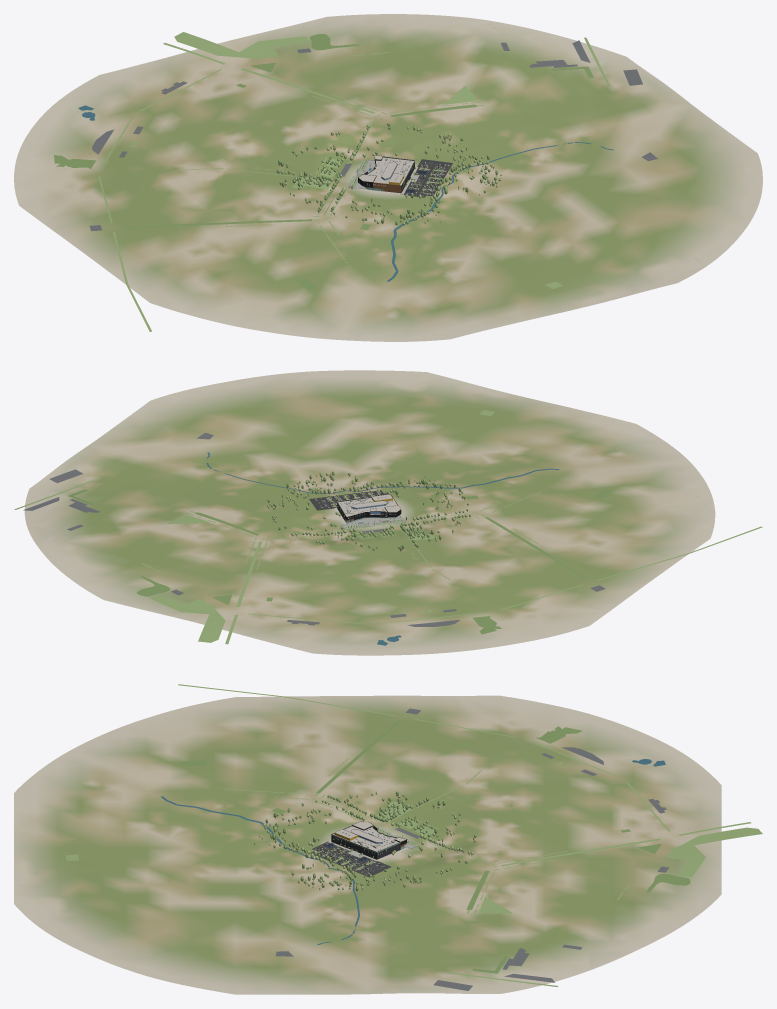
Rendered from shymkent-plaza.core.glb.
The picture shows the model from 3 angles, top to bottom: view 1: azimuth 30°, elevation 25°; view 2: azimuth 150°, elevation 25°; view 3: azimuth 270°, elevation 25°; orthographic projection. The views are drawn at different scales.
Visible parts, largest first — view 1: Site_Ground__site.ground, Site__batch__site.grass, Site__batch__site.grassDark, Site_Trees__site.tree, Site_Ground__site.asphaltLight, Site_Trees__site.treeAlt, Building__batch__roof.membrane, Site_Parking__site.asphaltPark, Site__batch__site.water; view 2: Site_Ground__site.ground, Site__batch__site.grass, Site__batch__site.grassDark, Site_Trees__site.tree, Site_Ground__site.asphaltLight, Site_Trees__site.treeAlt, Building__batch__roof.membrane, Site__batch__site.water; view 3: Site_Ground__site.ground, Site__batch__site.grass, Site__batch__site.grassDark, Site_Trees__site.tree, Site_Ground__site.asphaltLight, Site_Trees__site.treeAlt, Building__batch__roof.membrane, Site_Parking__site.asphaltPark, Site__batch__site.water.
Part boxes in pixels (x1,y1,x2,y2): Site_Ground__site.ground: (14, 14, 762, 341); Site__batch__site.grass: (98, 32, 610, 331); Site__batch__site.grassDark: (54, 34, 593, 289); Site_Trees__site.tree: (276, 123, 497, 225); Site_Ground__site.asphaltLight: (89, 40, 657, 231); Site_Trees__site.treeAlt: (279, 125, 501, 225); Building__batch__roof.membrane: (359, 155, 414, 185); Site_Parking__site.asphaltPark: (401, 159, 452, 197); Site__batch__site.water: (78, 105, 613, 281); Site_Ground__site.ground: (24, 370, 715, 655); Site__batch__site.grass: (14, 410, 762, 644); Site__batch__site.grassDark: (67, 489, 613, 634); Site_Trees__site.tree: (267, 473, 470, 550); Site_Ground__site.asphaltLight: (23, 433, 605, 626); Site_Trees__site.treeAlt: (267, 471, 467, 548); Building__batch__roof.membrane: (338, 494, 400, 516); Site__batch__site.water: (206, 452, 559, 645); Site_Ground__site.ground: (14, 695, 721, 994); Site__batch__site.grass: (65, 684, 762, 986); Site__batch__site.grassDark: (180, 721, 690, 973); Site_Trees__site.tree: (261, 791, 476, 891); Site_Ground__site.asphaltLight: (276, 708, 668, 990); Site_Trees__site.treeAlt: (254, 793, 475, 889); Building__batch__roof.membrane: (333, 822, 405, 851); Site_Parking__site.asphaltPark: (310, 841, 391, 877); Site__batch__site.water: (161, 759, 665, 944).
Bounding box in the file's own units: 1609 × 35.64 × 1626.
